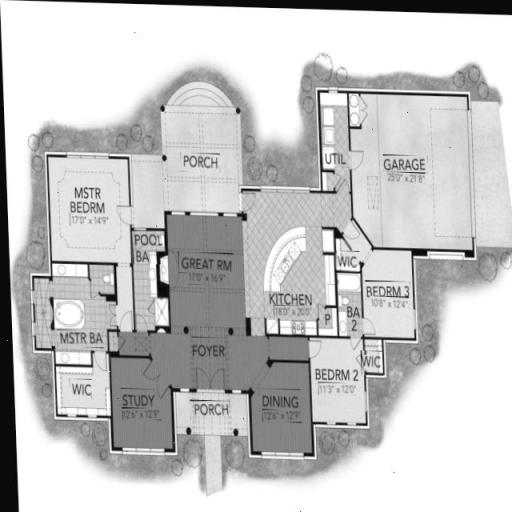Room: (249, 368, 315, 452), (112, 362, 176, 448)
bathroom: (36, 283, 110, 349)
bedroom: (52, 159, 131, 267), (302, 342, 372, 423), (359, 254, 425, 334)
garage: (344, 96, 474, 244)
hall: (168, 219, 245, 340)
kitchen: (245, 190, 327, 325)
